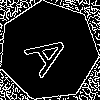A: (23, 26, 80, 79)
